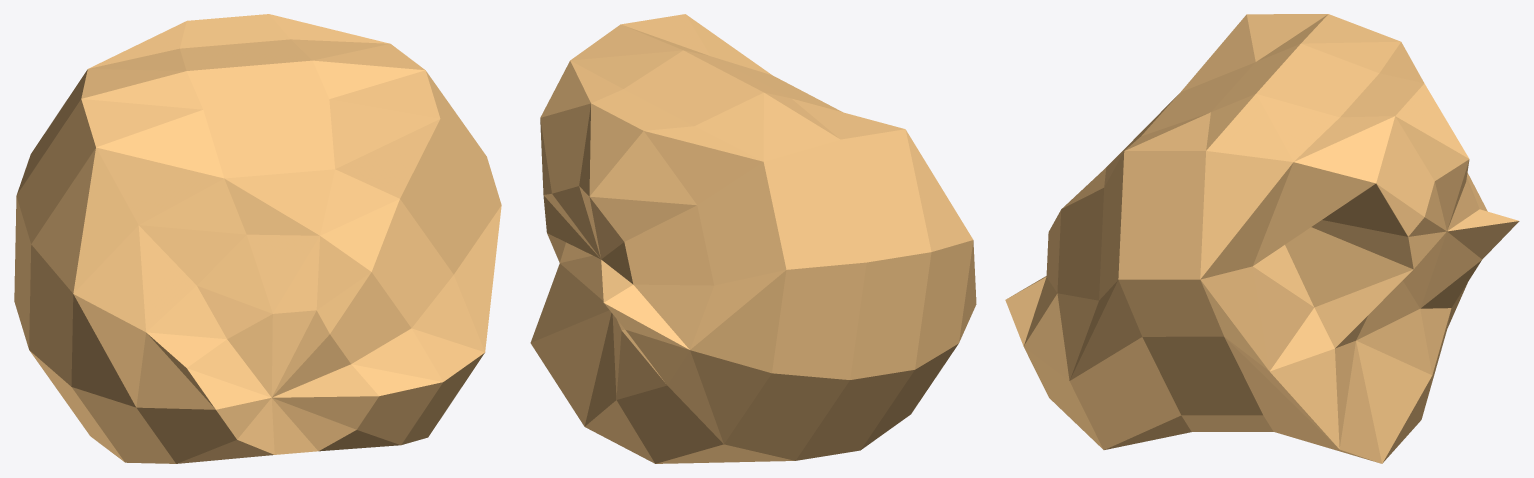
The model's file is desert_rock_s.glb.
The picture shows the model from 3 angles, left to right: view 1: azimuth 30°, elevation 25°; view 2: azimuth 150°, elevation 25°; view 3: azimuth 270°, elevation 25°; orthographic projection. The views are drawn at different scales.
Parts seen in each view (by area): view 1: group536976416; view 2: group536976416; view 3: group536976416.
Part boxes in pixels (x1,y1,x2,y2): group536976416: (14,14,501,463); group536976416: (530,14,976,463); group536976416: (1005,14,1519,463).
Bounding box in the file's own units: 0.1257 × 0.1009 × 0.1335.
